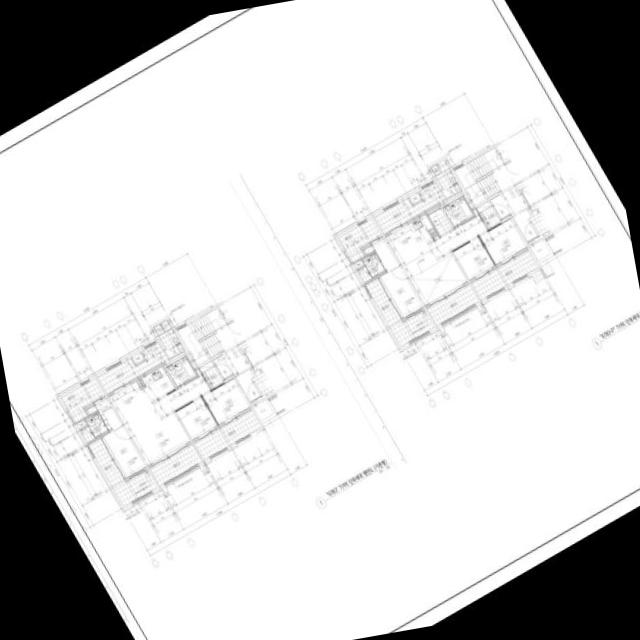background: (0, 0, 640, 640)
space_balconi: (365, 277, 434, 346), (88, 437, 157, 506), (374, 181, 447, 234), (97, 341, 170, 394), (194, 409, 261, 459), (471, 249, 538, 299), (149, 443, 202, 485), (426, 283, 479, 325), (338, 218, 382, 263), (61, 378, 105, 423), (151, 317, 182, 361), (428, 157, 459, 201)
space_bedroom: (95, 398, 146, 478), (372, 238, 423, 318), (479, 218, 527, 264), (202, 378, 250, 424), (175, 396, 218, 440), (452, 236, 495, 280)
space_elevator: (240, 343, 264, 376), (517, 183, 541, 216)
space_elevator_hall: (213, 338, 261, 403), (490, 178, 538, 243)
space_front: (199, 360, 223, 389), (476, 200, 500, 229)
space_kitchen: (108, 365, 175, 419), (385, 213, 440, 260)
space_living_room: (122, 368, 210, 465), (399, 208, 487, 305)
space_other: (529, 238, 551, 260), (252, 398, 274, 420), (186, 353, 196, 368), (463, 193, 473, 208), (132, 352, 144, 364), (409, 192, 421, 204), (86, 404, 98, 415), (363, 244, 375, 255), (454, 182, 464, 194), (177, 342, 187, 354), (353, 259, 364, 269), (76, 419, 86, 429)
space_staircase: (178, 307, 244, 365), (455, 147, 521, 205), (428, 207, 453, 236)
space_toilet: (165, 355, 197, 387), (442, 195, 474, 227), (80, 412, 109, 443), (357, 252, 386, 283)
